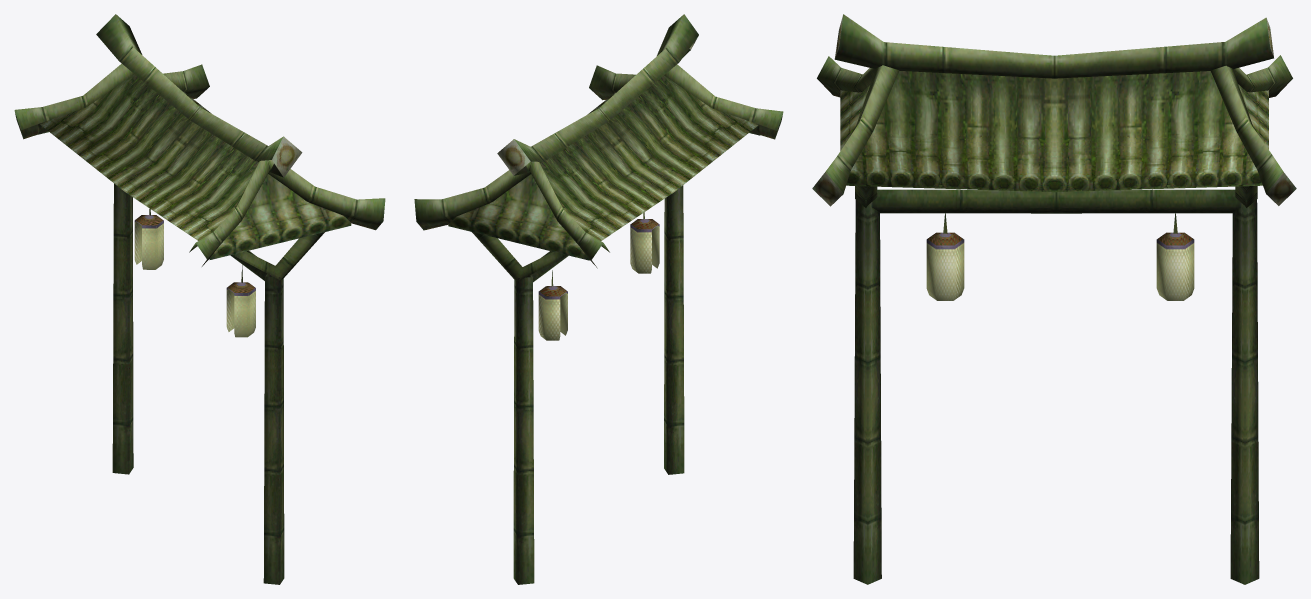
File: yw_yanziwu_zhuqiaotingzi01.FBX
3 views of the same model, side by side, from view 1: azimuth 30°, elevation 25°; view 2: azimuth 150°, elevation 25°; view 3: azimuth 270°, elevation 25° (orthographic). The views are drawn at different scales.
Parts seen in each view (by area): view 1: yw_yanziwu_zhuqiaotingzi01; view 2: yw_yanziwu_zhuqiaotingzi01; view 3: yw_yanziwu_zhuqiaotingzi01.
Part boxes in pixels (x1=…): yw_yanziwu_zhuqiaotingzi01: x1=14, y1=14, x2=385, y2=584; yw_yanziwu_zhuqiaotingzi01: x1=414, y1=14, x2=783, y2=584; yw_yanziwu_zhuqiaotingzi01: x1=812, y1=14, x2=1296, y2=584.
Bounding box in the file's own units: 489 × 1110 × 864.
